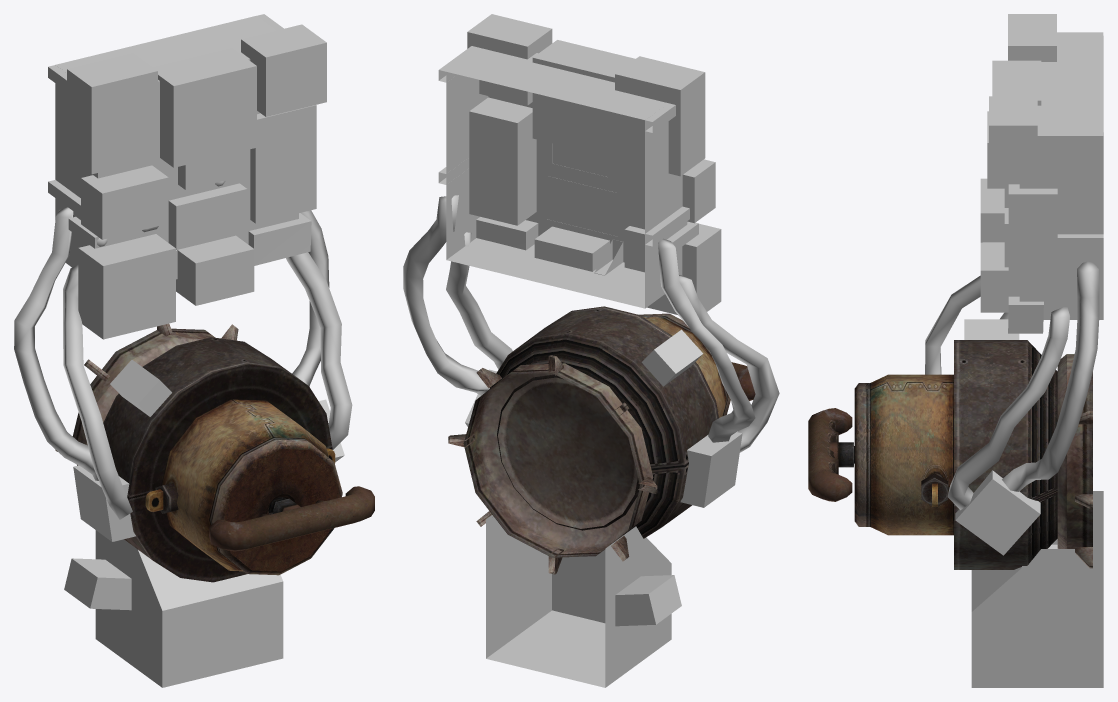
The model's file is generator_lever.dae.
3 renders of one model, left to right at view 1: azimuth 30°, elevation 25°; view 2: azimuth 150°, elevation 25°; view 3: azimuth 270°, elevation 25°, orthographic.
Visible parts, largest first — view 1: base, base2, lever; view 2: base, base2; view 3: base, base2, lever.
Part boxes in pixels (box(x1,y1,x2,y2)): base: box(14, 14, 352, 687); base2: box(55, 323, 342, 582); lever: box(209, 486, 374, 551); base: box(403, 14, 779, 687); base2: box(448, 306, 730, 574); base: box(925, 14, 1103, 687); base2: box(854, 340, 1092, 569); lever: box(808, 408, 854, 501).
Size of the model in its own units: 0.6071 by 1.07 by 0.4861.
